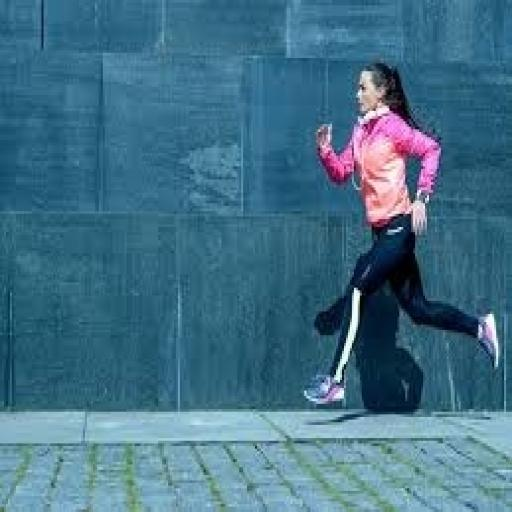running: (303, 58, 502, 412)
